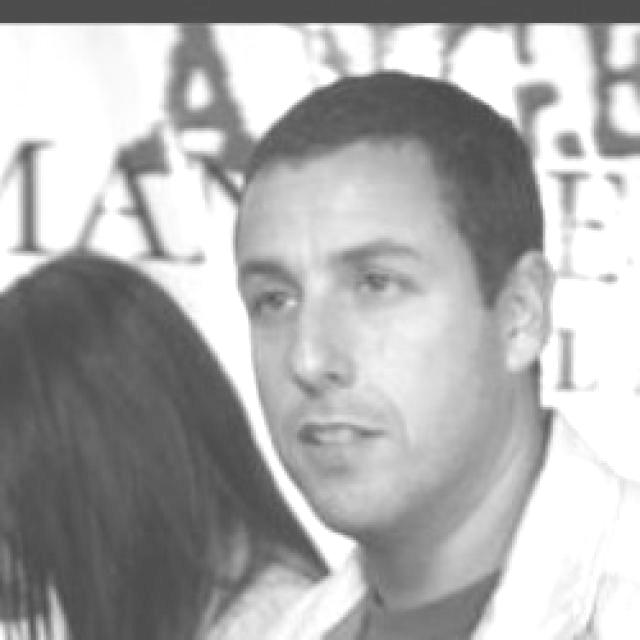real: (231, 148, 517, 540), (245, 254, 431, 336)
